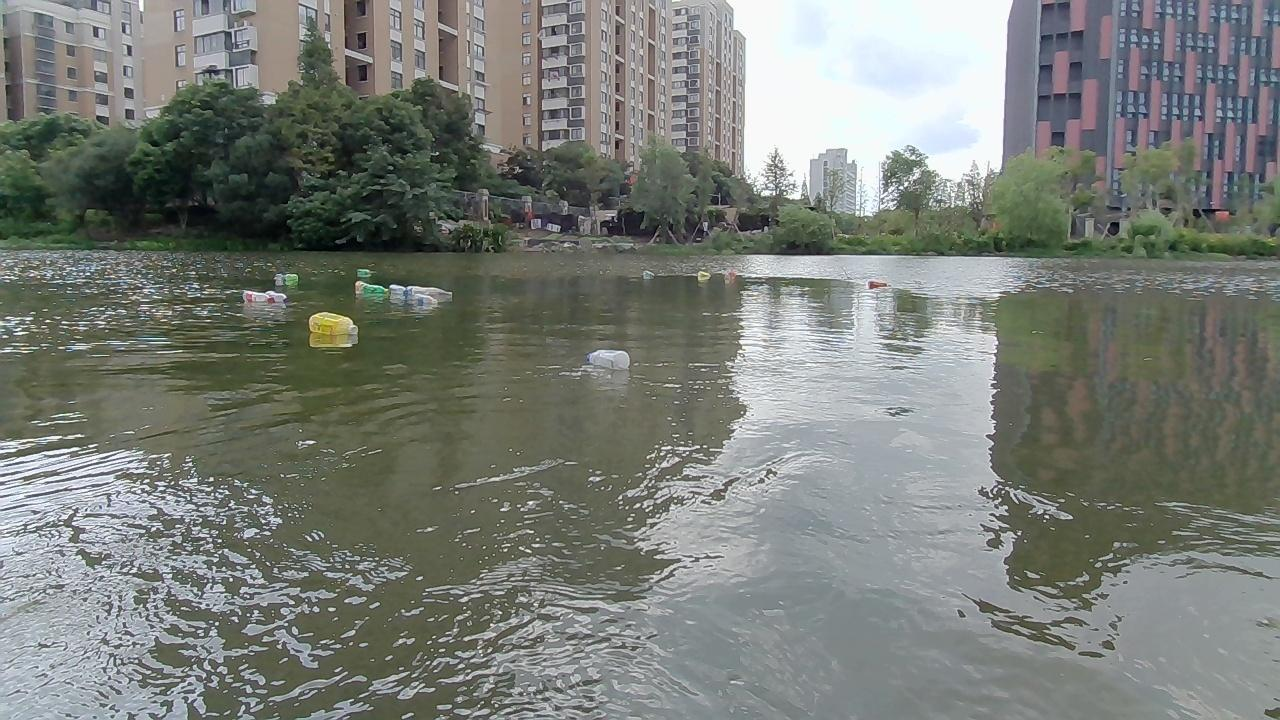bottle: (307, 310, 361, 337), (583, 348, 629, 370), (404, 286, 460, 302), (349, 280, 392, 296), (236, 290, 272, 305), (255, 288, 289, 302), (410, 292, 439, 307), (863, 279, 891, 292), (722, 268, 743, 285), (385, 284, 411, 297), (692, 268, 711, 283), (351, 264, 373, 275), (640, 269, 660, 281), (279, 273, 299, 284), (270, 269, 284, 282)
